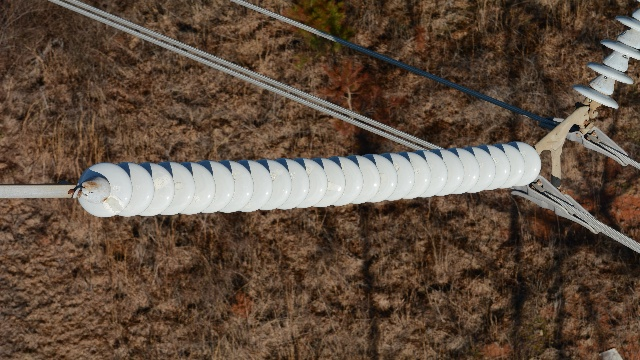insulator_unspecified: (78, 140, 541, 218), (571, 17, 639, 111)
pollution_flashover_local: (101, 194, 124, 213), (153, 175, 170, 193), (326, 182, 341, 192), (173, 180, 184, 190), (269, 170, 279, 180), (231, 169, 239, 180), (306, 165, 313, 176)
